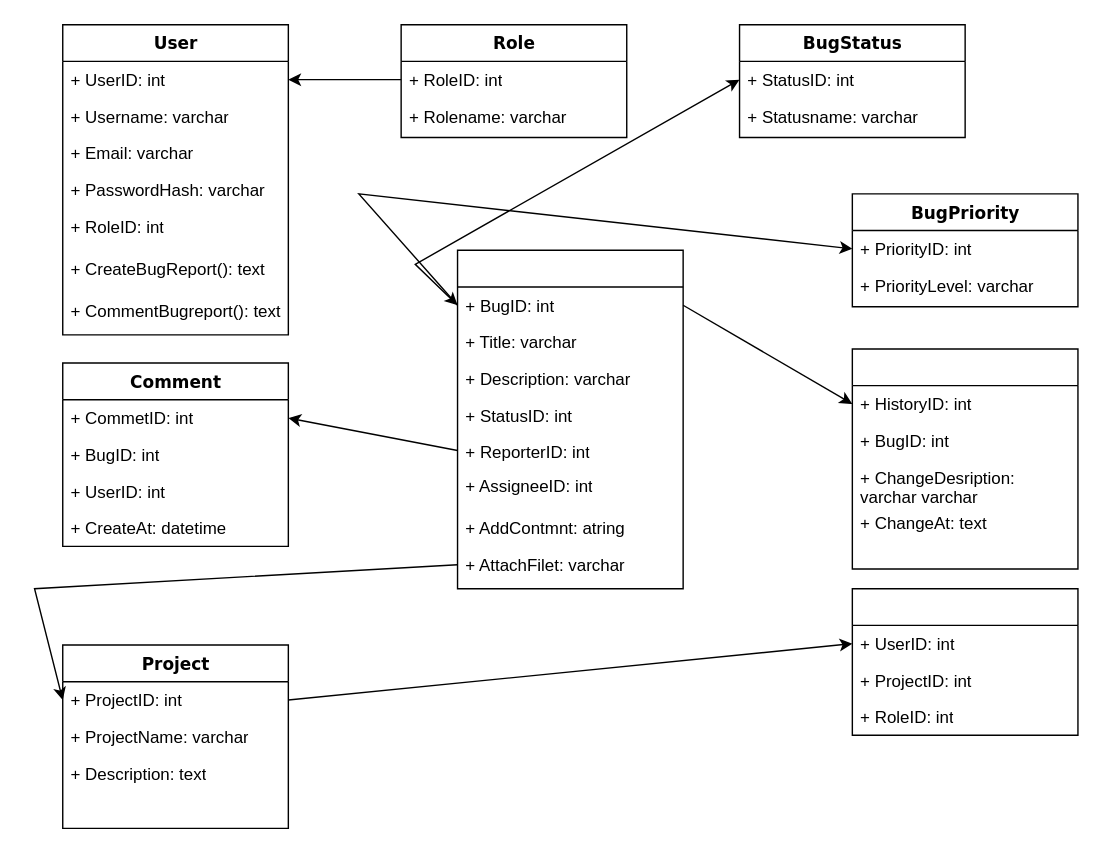
This 1103x853 diagram has some shape labels left out. The shapes that lost their labels are listed below. From the top down, each one's box as (x1, y1, x2, y2) in pixels, then its label:
(456, 249, 683, 589): BugReport
(851, 348, 1078, 569): Attachment
(851, 587, 1078, 735): UserProject
